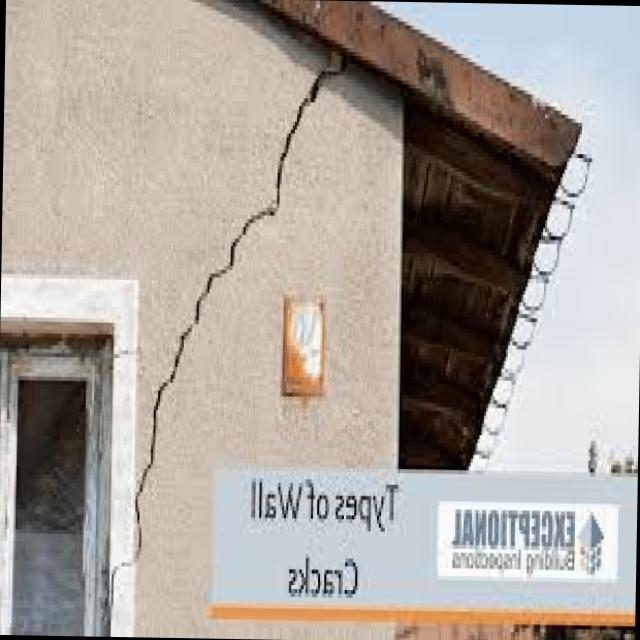crack: (110, 58, 342, 602)
